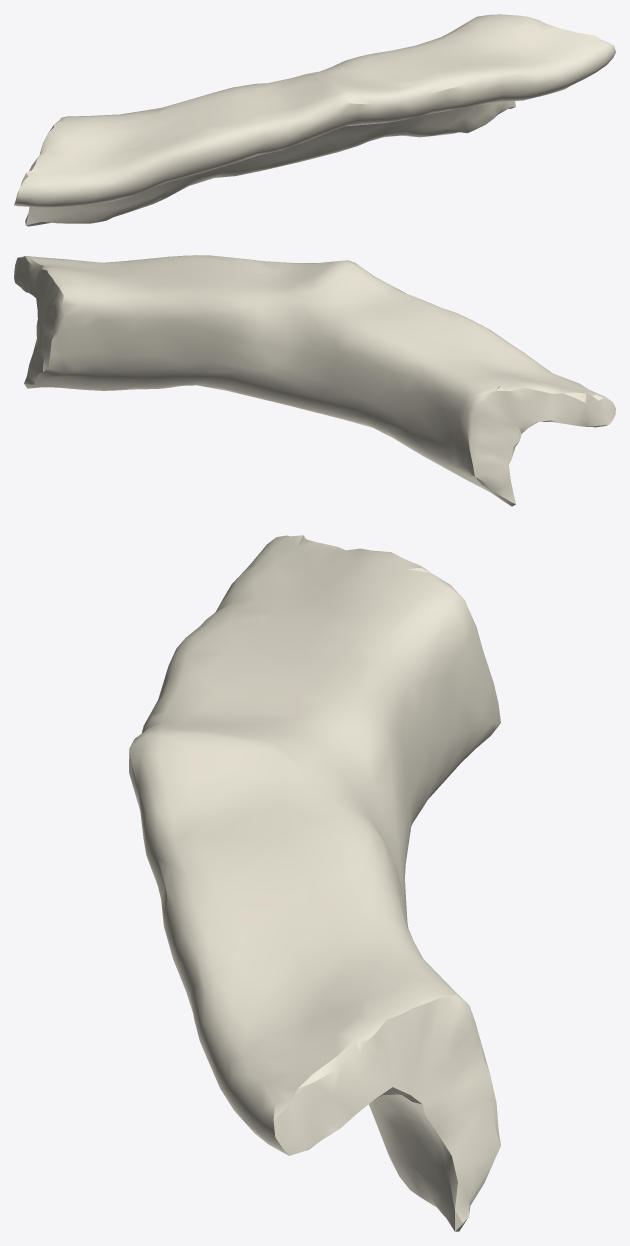
Rendered from fma54719_mm2105.glb.
3 views of the same model, one above another, from view 1: azimuth 30°, elevation 25°; view 2: azimuth 150°, elevation 25°; view 3: azimuth 270°, elevation 25° (orthographic). The views are drawn at different scales.
Visible parts, largest first — view 1: FMA54719_MM2105; view 2: FMA54719_MM2105; view 3: FMA54719_MM2105.
Part boxes in pixels (bbox=[...]): FMA54719_MM2105: bbox=[14, 14, 615, 226]; FMA54719_MM2105: bbox=[14, 255, 615, 506]; FMA54719_MM2105: bbox=[129, 535, 500, 1231].
Size of the model in its own units: 0.012 by 0.00251 by 0.00324.
